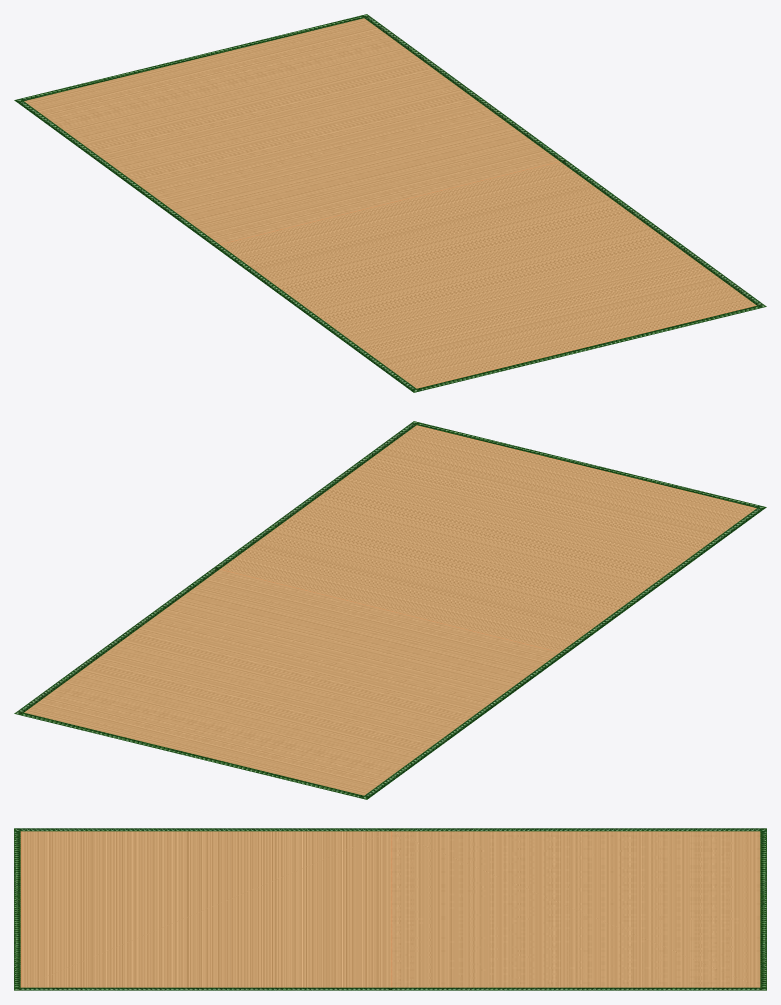
Rendered from Tatami2x1_VLO.fbx.
The picture shows the model from 3 angles, top to bottom: view 1: azimuth 30°, elevation 25°; view 2: azimuth 150°, elevation 25°; view 3: azimuth 270°, elevation 25°; orthographic projection. The views are drawn at different scales.
Visible parts, largest first — view 1: TATAMI_1x2; view 2: TATAMI_1x2; view 3: TATAMI_1x2.
Part boxes in pixels (bbox=[...]): TATAMI_1x2: bbox=[14, 14, 766, 392]; TATAMI_1x2: bbox=[14, 421, 766, 799]; TATAMI_1x2: bbox=[14, 828, 766, 990].
Bounding box in the file's own units: 89.05 × 0.00619 × 175.
1 material, 1 textured.
